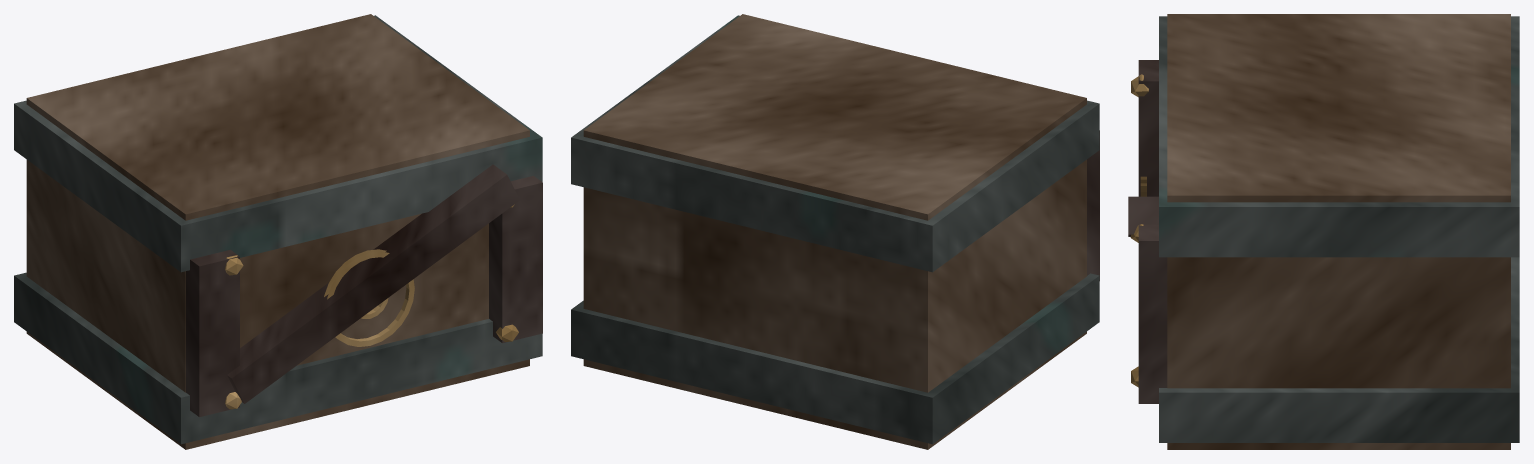
File: 0749_supply_crate_24.glb
3 renders of one model, left to right at view 1: azimuth 30°, elevation 25°; view 2: azimuth 150°, elevation 25°; view 3: azimuth 270°, elevation 25°, orthographic. The views are drawn at different scales.
Visible parts, largest first — view 1: wood, iron, wood_dark, brass; view 2: wood, iron, wood_dark; view 3: wood, iron, wood_dark, brass.
Boxes of the visible parts, left/top/right/bottom form: wood: left=26, top=14, right=529, bottom=449; iron: left=14, top=15, right=542, bottom=444; wood_dark: left=186, top=164, right=542, bottom=417; brass: left=225, top=204, right=518, bottom=409; wood: left=583, top=14, right=1086, bottom=449; iron: left=571, top=15, right=1099, bottom=444; wood_dark: left=1087, top=130, right=1099, bottom=280; wood: left=1167, top=14, right=1510, bottom=449; iron: left=1159, top=16, right=1519, bottom=442; wood_dark: left=1128, top=60, right=1167, bottom=403; brass: left=1130, top=74, right=1148, bottom=387.
Size of the model in its own units: 0.8933 by 0.5561 by 0.7752.
Materials: 4 (4 with a texture image).
